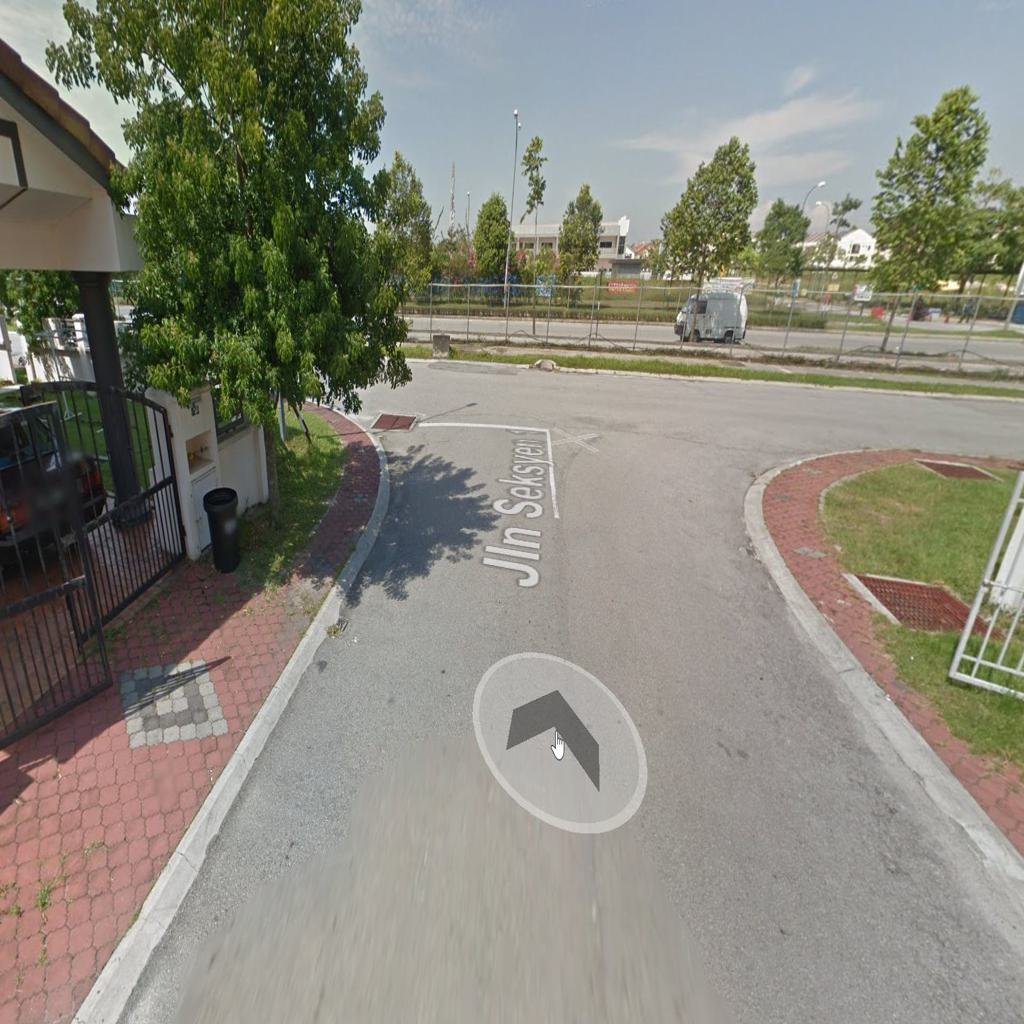Junction: (712, 351, 1007, 518), (316, 337, 485, 493)
